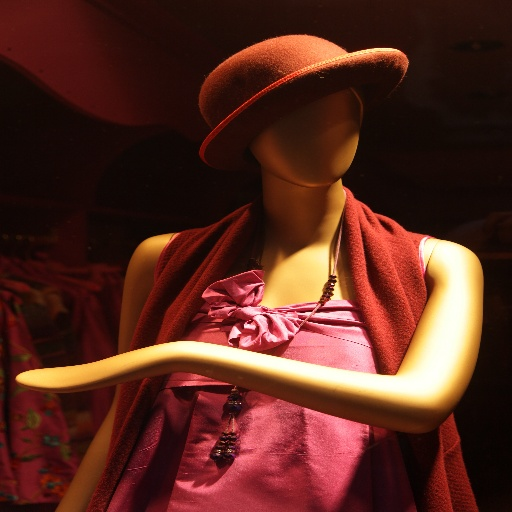hand: (35, 317, 369, 419)
